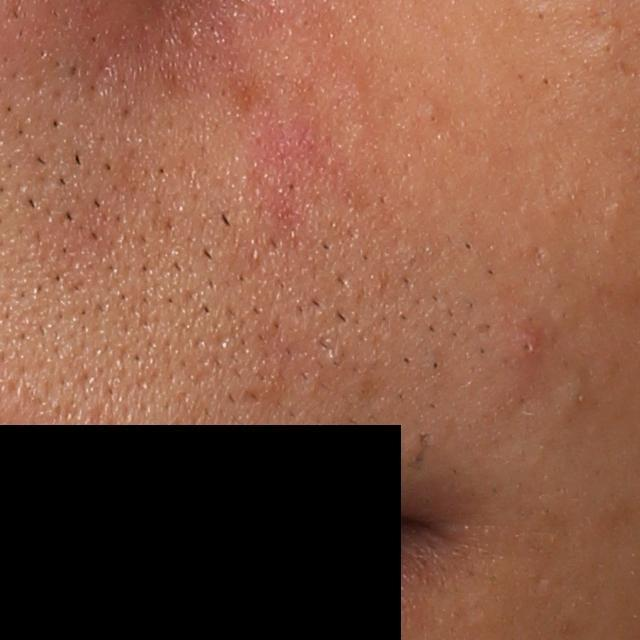comedo: (595, 30, 621, 63), (418, 104, 440, 128)
papule: (504, 326, 542, 365)
